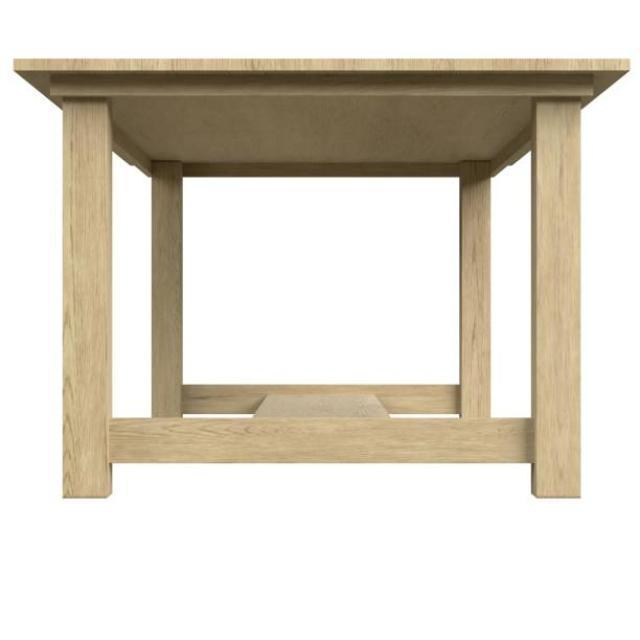table: (13, 55, 632, 500)
